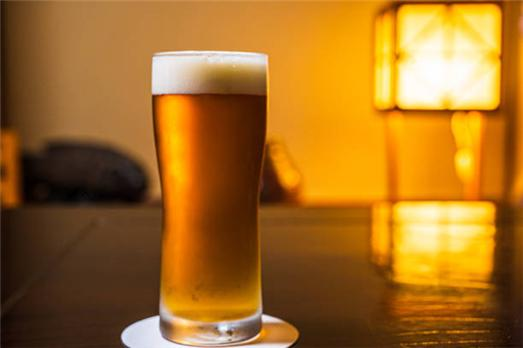alcohol: (150, 49, 268, 342)
